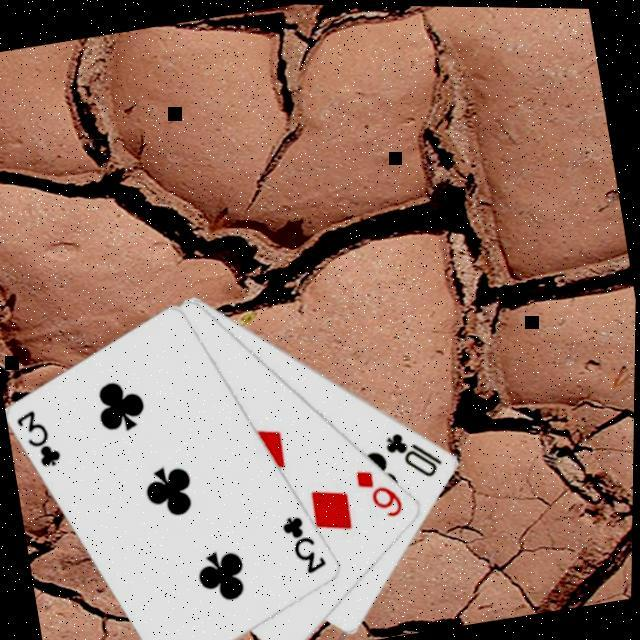10C: (382, 421, 452, 487)
3C: (280, 508, 336, 582), (14, 403, 70, 476)
6D: (354, 461, 412, 526)
